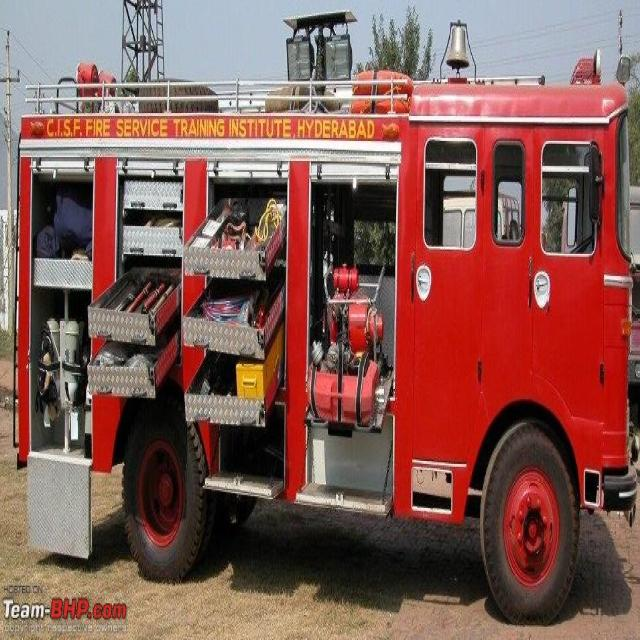Fire Truck: (10, 44, 639, 634)
